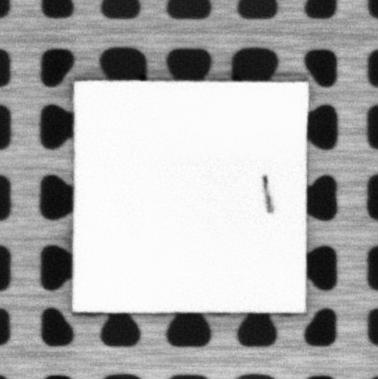DIE_INK: (261, 172, 273, 215)
